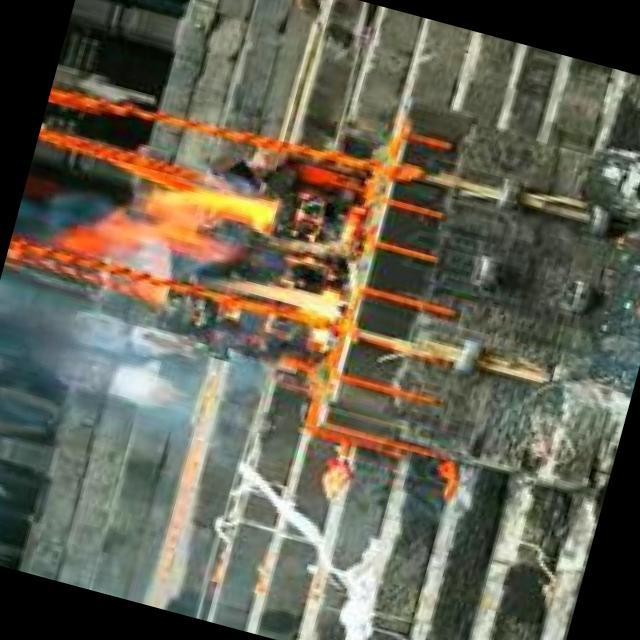Fire: (53, 153, 361, 329)
